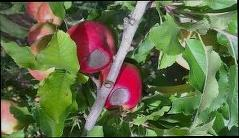rotten apple: (63, 21, 118, 76), (91, 62, 147, 109)
